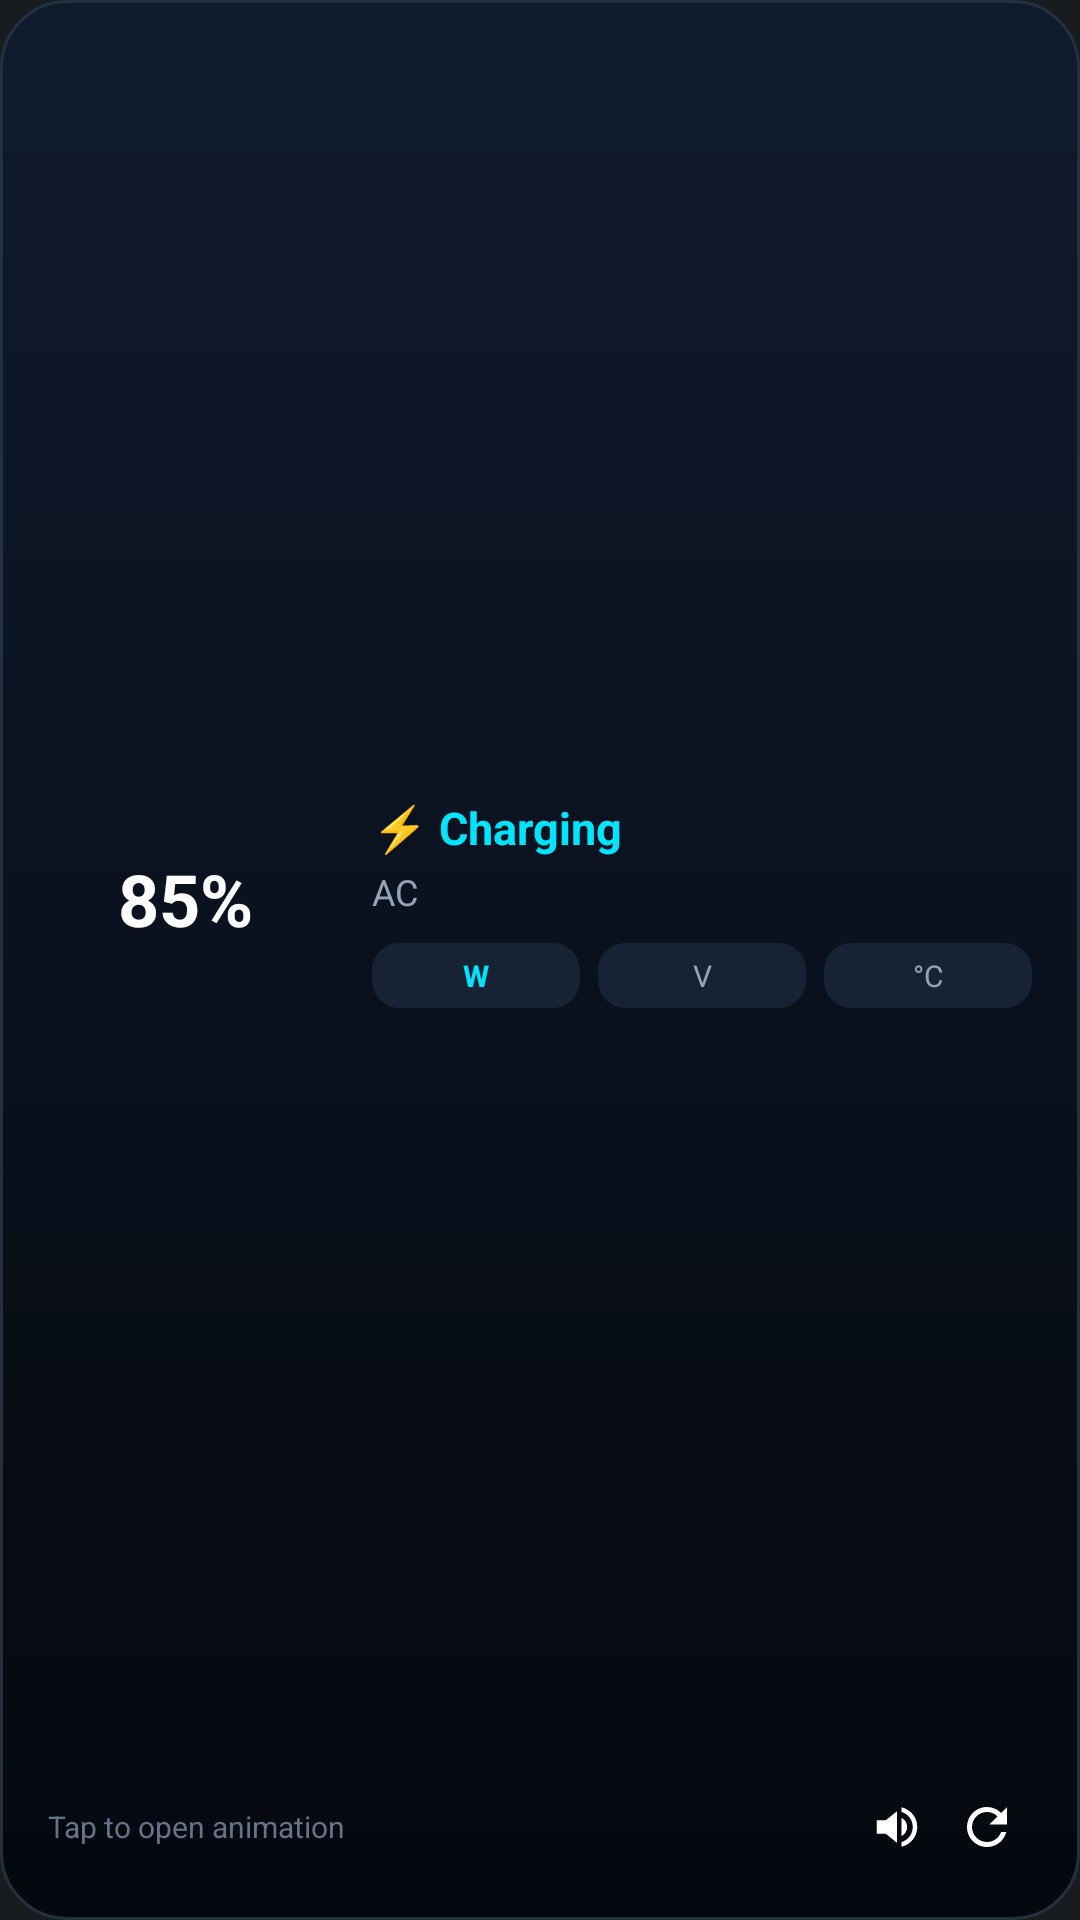

Locate icon controls on the screen. Image size 1080 × 1920, boxes as rect(x1, y1, x2, y2).
Refresh: rect(967, 1807, 1007, 1847)
Sound on. Tap to mute: rect(876, 1807, 918, 1847)
